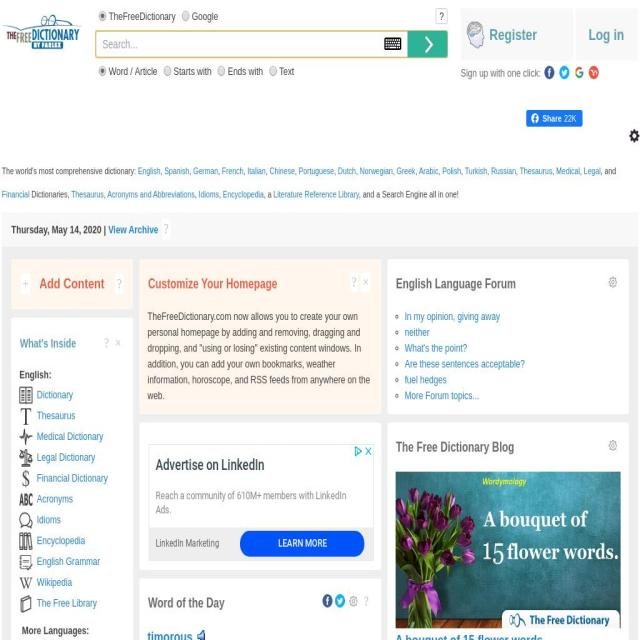button: (461, 8, 573, 61), (575, 8, 637, 61), (395, 618, 621, 632), (2, 14, 82, 49), (606, 434, 619, 456), (606, 271, 619, 292), (348, 590, 360, 612), (384, 38, 402, 50), (436, 8, 448, 24), (544, 65, 555, 79), (559, 65, 569, 79), (574, 65, 584, 79), (589, 65, 599, 79), (630, 128, 640, 142)
field: (95, 31, 448, 57), (408, 31, 448, 57), (181, 10, 190, 22), (268, 66, 278, 76), (99, 10, 107, 22), (163, 66, 172, 76), (99, 66, 107, 76), (218, 66, 226, 76)
heading: (148, 276, 278, 292), (396, 276, 516, 292), (396, 439, 514, 455), (395, 632, 621, 640), (2, 165, 138, 176), (148, 595, 225, 611), (359, 188, 459, 200), (107, 188, 195, 200), (273, 188, 359, 200), (20, 336, 76, 350), (148, 628, 192, 640), (29, 188, 72, 200), (222, 188, 264, 200), (70, 188, 104, 200), (298, 165, 334, 176), (360, 165, 392, 176), (520, 165, 552, 176), (2, 188, 29, 200), (164, 165, 190, 176), (193, 165, 219, 176), (270, 165, 296, 176), (491, 165, 516, 176), (556, 165, 580, 176), (464, 165, 487, 176), (198, 188, 219, 200), (138, 165, 160, 176), (222, 165, 244, 176), (396, 165, 416, 176), (419, 165, 439, 176), (247, 165, 266, 176), (442, 165, 461, 176), (338, 165, 356, 176), (584, 165, 601, 176), (601, 165, 617, 176), (264, 188, 274, 200), (197, 627, 205, 640), (218, 188, 224, 200), (392, 165, 398, 176), (194, 188, 199, 200), (217, 165, 222, 176), (243, 165, 248, 176), (294, 165, 299, 176), (438, 165, 443, 176), (487, 165, 492, 176), (579, 165, 584, 176), (104, 188, 108, 200), (160, 165, 164, 176), (189, 165, 193, 176), (266, 165, 270, 176), (334, 165, 338, 176), (356, 165, 360, 176), (415, 165, 419, 176), (461, 165, 465, 176), (516, 165, 520, 176), (552, 165, 556, 176)
iframe: (148, 443, 374, 561), (395, 402, 583, 528), (526, 109, 583, 127)
image: (395, 471, 621, 629), (335, 594, 346, 608), (323, 594, 333, 608), (608, 440, 617, 452), (349, 596, 358, 607), (608, 277, 617, 288)
label: (108, 10, 176, 22), (109, 65, 158, 77), (173, 65, 211, 77), (228, 65, 264, 77), (191, 10, 218, 22), (279, 65, 294, 77)
link: (404, 357, 525, 370), (404, 309, 500, 323), (19, 429, 103, 443), (19, 471, 108, 484), (19, 554, 100, 568), (404, 388, 480, 402), (19, 596, 97, 609), (19, 450, 95, 463), (19, 533, 85, 547), (404, 341, 468, 354), (19, 408, 75, 422), (19, 387, 73, 401), (108, 222, 159, 236), (19, 492, 73, 505), (19, 575, 72, 588), (404, 372, 447, 386), (20, 512, 60, 526), (404, 325, 430, 338), (362, 273, 370, 290), (115, 334, 122, 351), (163, 220, 169, 237), (117, 275, 122, 292), (364, 593, 369, 609), (104, 334, 108, 351), (352, 273, 356, 290)
text: (148, 307, 372, 403), (38, 268, 110, 300), (19, 366, 125, 382), (22, 622, 125, 638), (11, 222, 108, 236), (461, 67, 541, 79), (20, 273, 30, 294)
